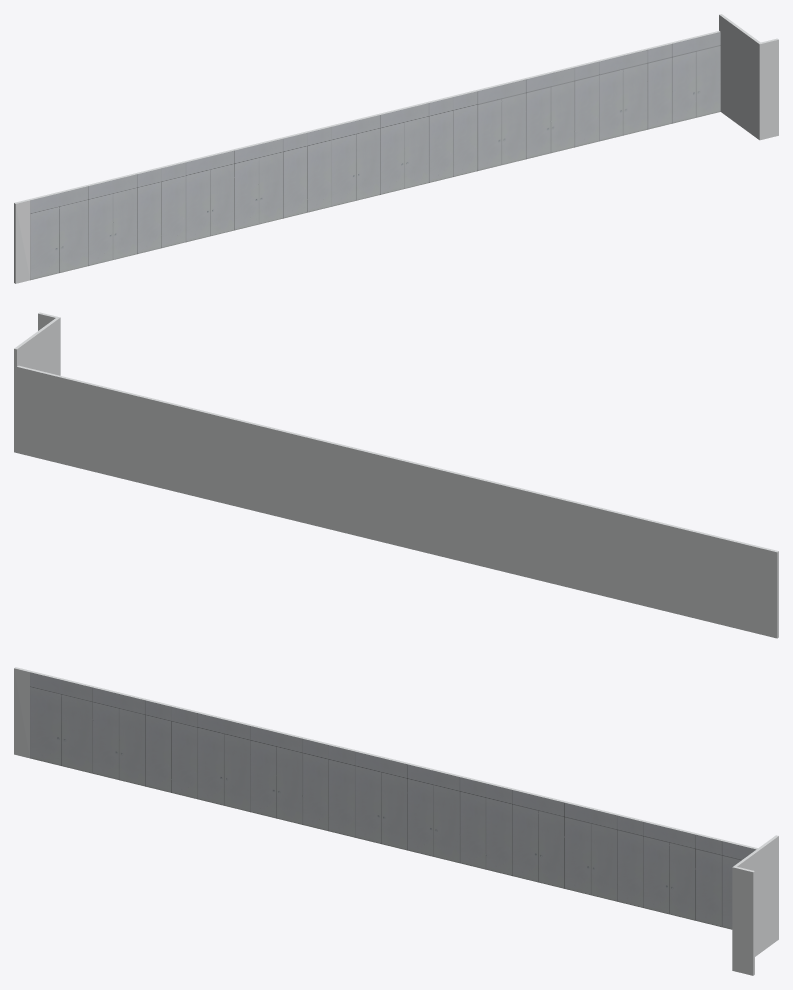
The model's file is room_storage_wall.glb.
3 renders of one model, top to bottom at view 1: azimuth 30°, elevation 25°; view 2: azimuth 150°, elevation 25°; view 3: azimuth 330°, elevation 25°, orthographic. The views are drawn at different scales.
Parts seen in each view (by area): view 1: paint_matte_texture_0, paint_matte_texture_2, paint_matte_texture_1, paint_matte_texture_3, paint_matte_texture_4, paint_matte_0, paint_matte_2, paint_matte_1; view 2: paint_matte_0; view 3: paint_matte_texture_0, paint_matte_texture_2, paint_matte_texture_1, paint_matte_texture_3, paint_matte_texture_4, paint_matte_0, paint_matte_1, paint_matte_2.
Part boxes in pixels (x1=…): paint_matte_texture_0: x1=30, y1=162, x2=185, y2=280; paint_matte_texture_2: x1=332, y1=91, x2=477, y2=206; paint_matte_texture_1: x1=186, y1=127, x2=331, y2=242; paint_matte_texture_3: x1=477, y1=61, x2=599, y2=170; paint_matte_texture_4: x1=599, y1=32, x2=720, y2=141; paint_matte_0: x1=14, y1=14, x2=778, y2=283; paint_matte_2: x1=15, y1=200, x2=30, y2=278; paint_matte_1: x1=15, y1=205, x2=30, y2=283; paint_matte_0: x1=14, y1=312, x2=778, y2=638; paint_matte_texture_0: x1=30, y1=672, x2=197, y2=799; paint_matte_texture_2: x1=355, y1=751, x2=512, y2=875; paint_matte_texture_1: x1=198, y1=713, x2=354, y2=837; paint_matte_texture_3: x1=512, y1=790, x2=643, y2=907; paint_matte_texture_4: x1=643, y1=822, x2=756, y2=929; paint_matte_0: x1=14, y1=667, x2=778, y2=975; paint_matte_1: x1=14, y1=669, x2=29, y2=758; paint_matte_2: x1=14, y1=668, x2=29, y2=756.
Bounding box in the file's own units: 26.83 × 3.4 × 2.6.
8 materials, 5 textured.
